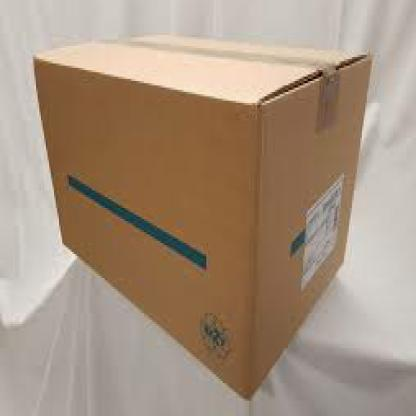package: (34, 34, 370, 399)
